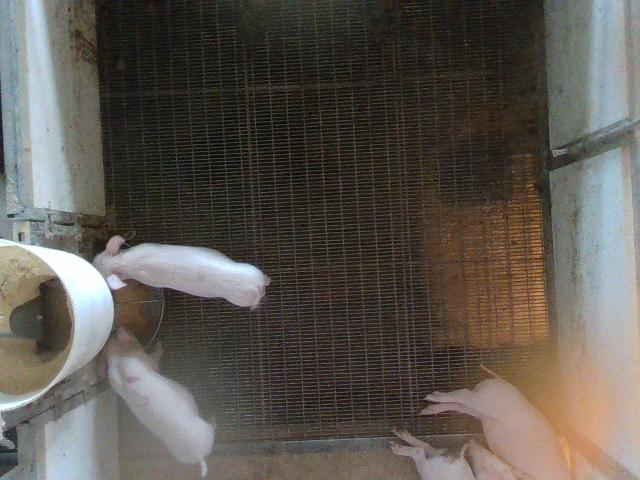pig-5: (102, 328, 214, 474)
